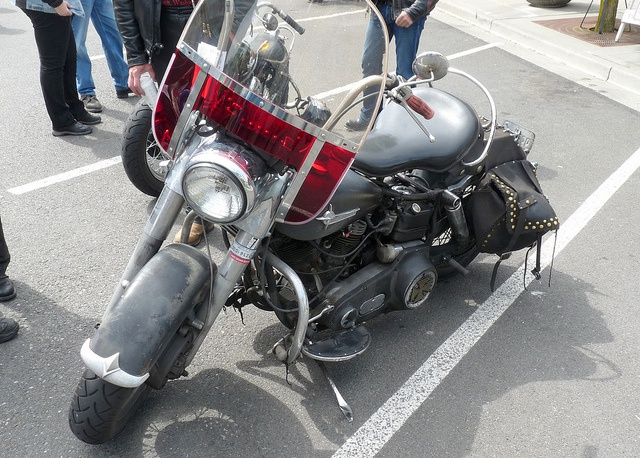non-vehicle: (68, 0, 560, 445), (117, 2, 308, 196)
